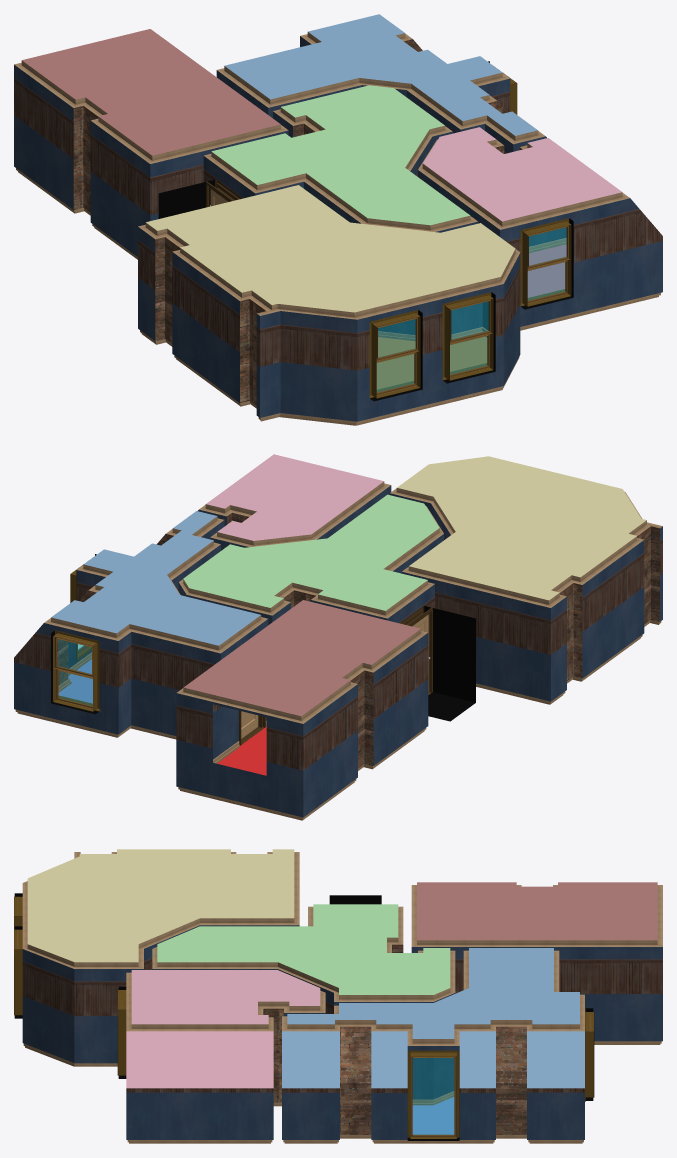
File: level_08.fbx
3 renders of one model, top to bottom at view 1: azimuth 30°, elevation 25°; view 2: azimuth 150°, elevation 25°; view 3: azimuth 270°, elevation 25°, orthographic. The views are drawn at different scales.
Parts seen in each view (by area): view 1: inner_wall.073, inner_wall.074, inner_wall.076, inner_wall.077, inner_wall.036, inner_wall.075, inner_wall.005, inner_wall.008, inner_wall.001, inner_wall.083, inner_wall.060, inner_wall.059 (+31 smaller); view 2: inner_wall.073, inner_wall.074, inner_wall.076, inner_wall.077, inner_wall.084, inner_wall.011, inner_wall.075, inner_wall.001, inner_wall.052, inner_wall.050, inner_wall.060, inner_wall.083 (+25 smaller); view 3: inner_wall.073, inner_wall.037, inner_wall.074, inner_wall.076, inner_wall.077, inner_wall.044, inner_wall.054, inner_wall.075, inner_wall.053, inner_wall.041, inner_wall.006, inner_wall.007 (+17 smaller).
Part boxes in pixels (x1,y1,x2,y2): inner_wall.073: (146,185,515,312); inner_wall.074: (211,85,469,225); inner_wall.076: (22,29,280,155); inner_wall.077: (224,14,537,135); inner_wall.036: (500,192,662,330); inner_wall.075: (423,127,622,221); inner_wall.005: (277,304,357,425); inner_wall.008: (354,277,503,425); inner_wall.001: (172,248,241,406); inner_wall.083: (14,60,75,213); inner_wall.060: (90,116,152,259); inner_wall.059: (150,124,288,220); inner_wall.073: (397,456,646,600); inner_wall.074: (183,494,439,610); inner_wall.076: (184,600,420,716); inner_wall.077: (51,511,260,645); inner_wall.084: (176,687,303,820); inner_wall.011: (401,566,550,704); inner_wall.075: (206,454,383,540); inner_wall.001: (580,536,644,681); inner_wall.052: (14,617,118,737); inner_wall.050: (129,624,220,739); inner_wall.060: (371,629,428,768); inner_wall.083: (301,680,357,820); inner_wall.073: (27,849,294,962); inner_wall.037: (126,1024,273,1143); inner_wall.074: (157,904,450,994); inner_wall.076: (417,882,657,940); inner_wall.077: (287,948,579,1038); inner_wall.044: (411,940,662,1044); inner_wall.054: (371,1024,495,1143); inner_wall.075: (131,970,320,1024); inner_wall.053: (527,1024,584,1143); inner_wall.041: (282,1024,339,1143); inner_wall.006: (22,944,74,1066); inner_wall.007: (74,962,143,1066).
Bounding box in the file's own units: 9.01 × 12.5 × 2.2.
